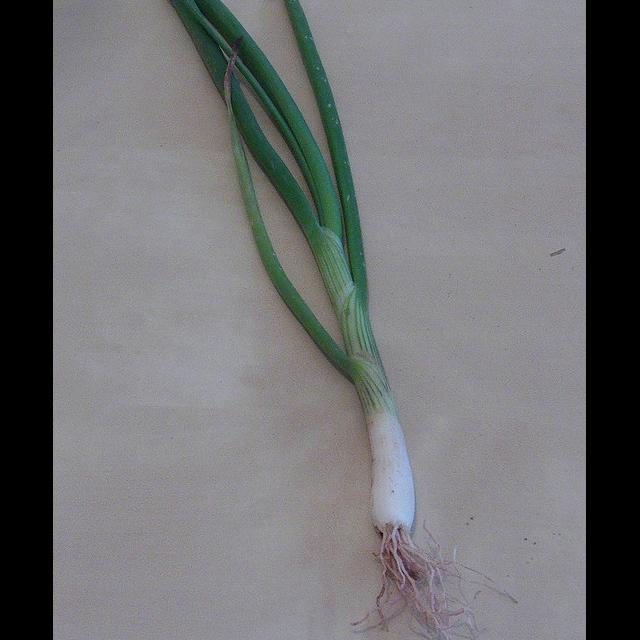green_onion: (169, 0, 476, 640)
